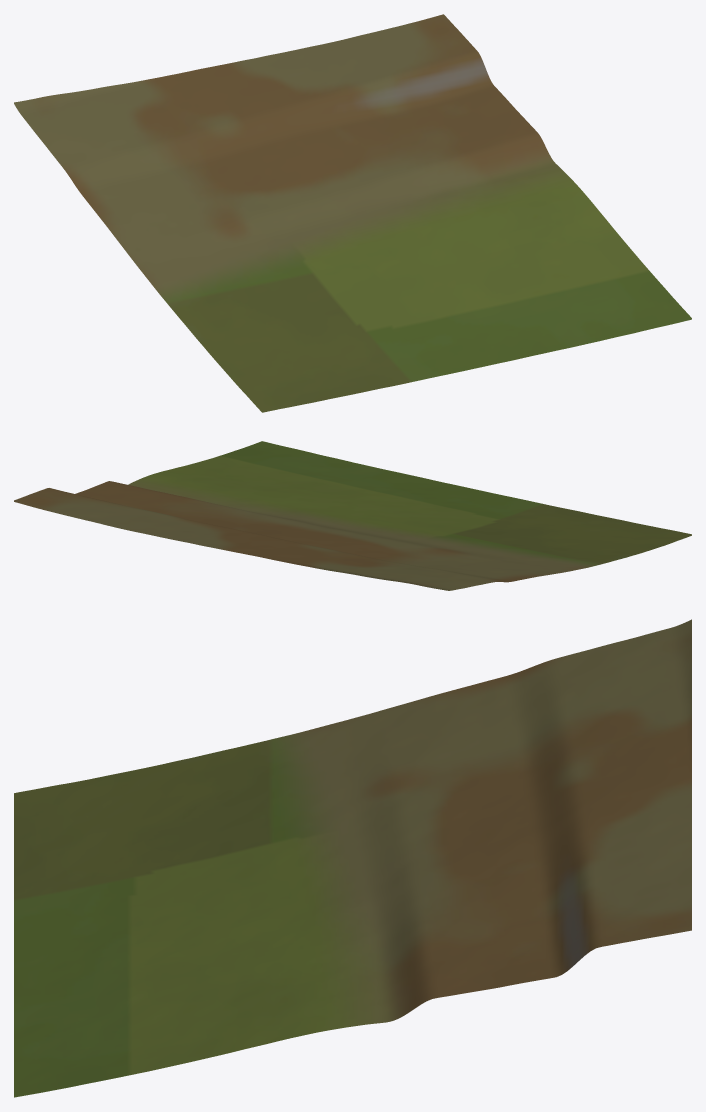
The model's file is land_n_01_00.glb.
The picture shows the model from 3 angles, top to bottom: view 1: azimuth 30°, elevation 25°; view 2: azimuth 150°, elevation 25°; view 3: azimuth 270°, elevation 25°; orthographic projection. The views are drawn at different scales.
Parts seen in each view (by area): view 1: land_n_01_00; view 2: land_n_01_00; view 3: land_n_01_00.
Boxes of the visible parts, x1,y1,x2,y2 form: land_n_01_00: (14,14,691,412); land_n_01_00: (14,441,691,590); land_n_01_00: (14,619,691,1097).
Size of the model in its own units: 480 by 150 by 480.
